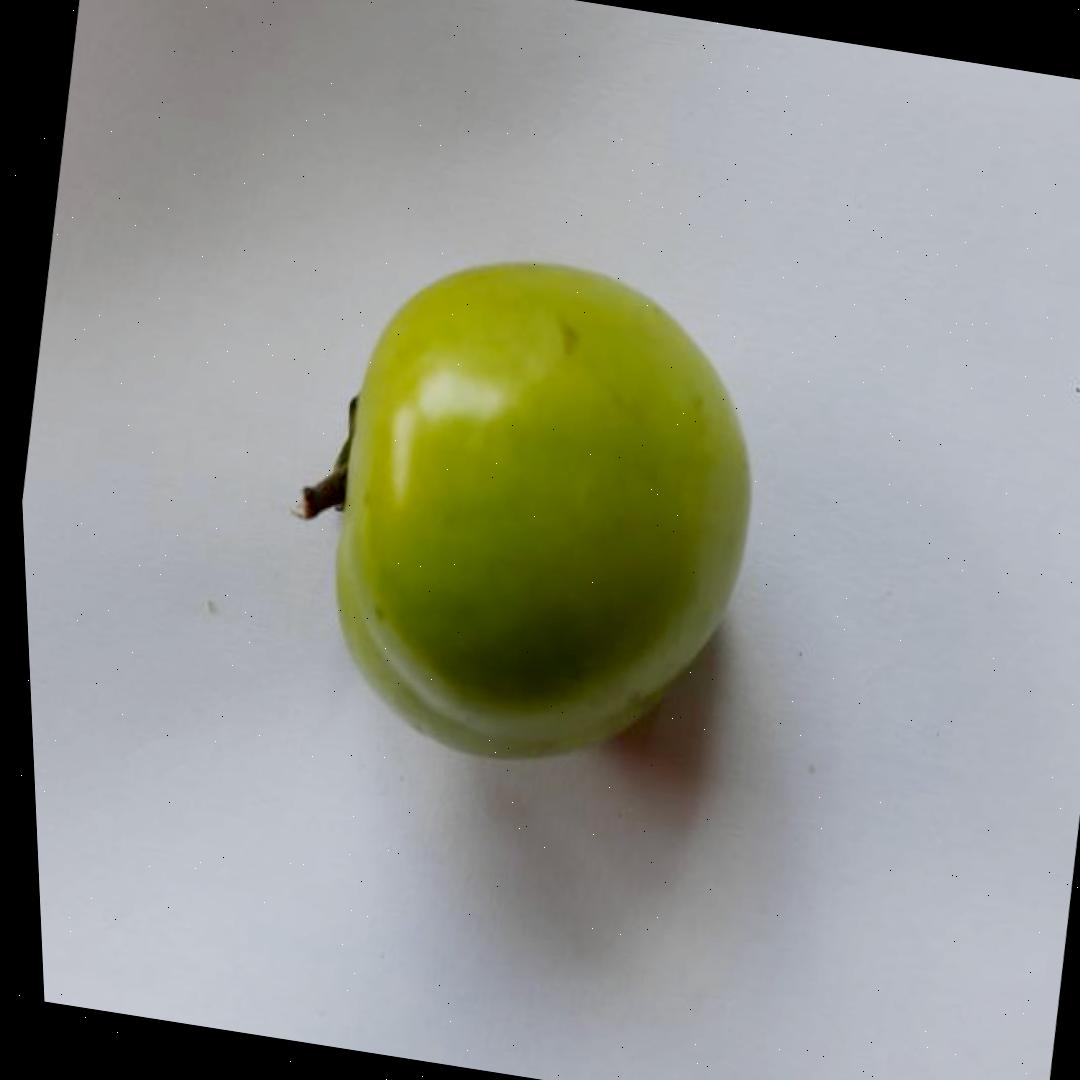mentah: (244, 223, 800, 795)
